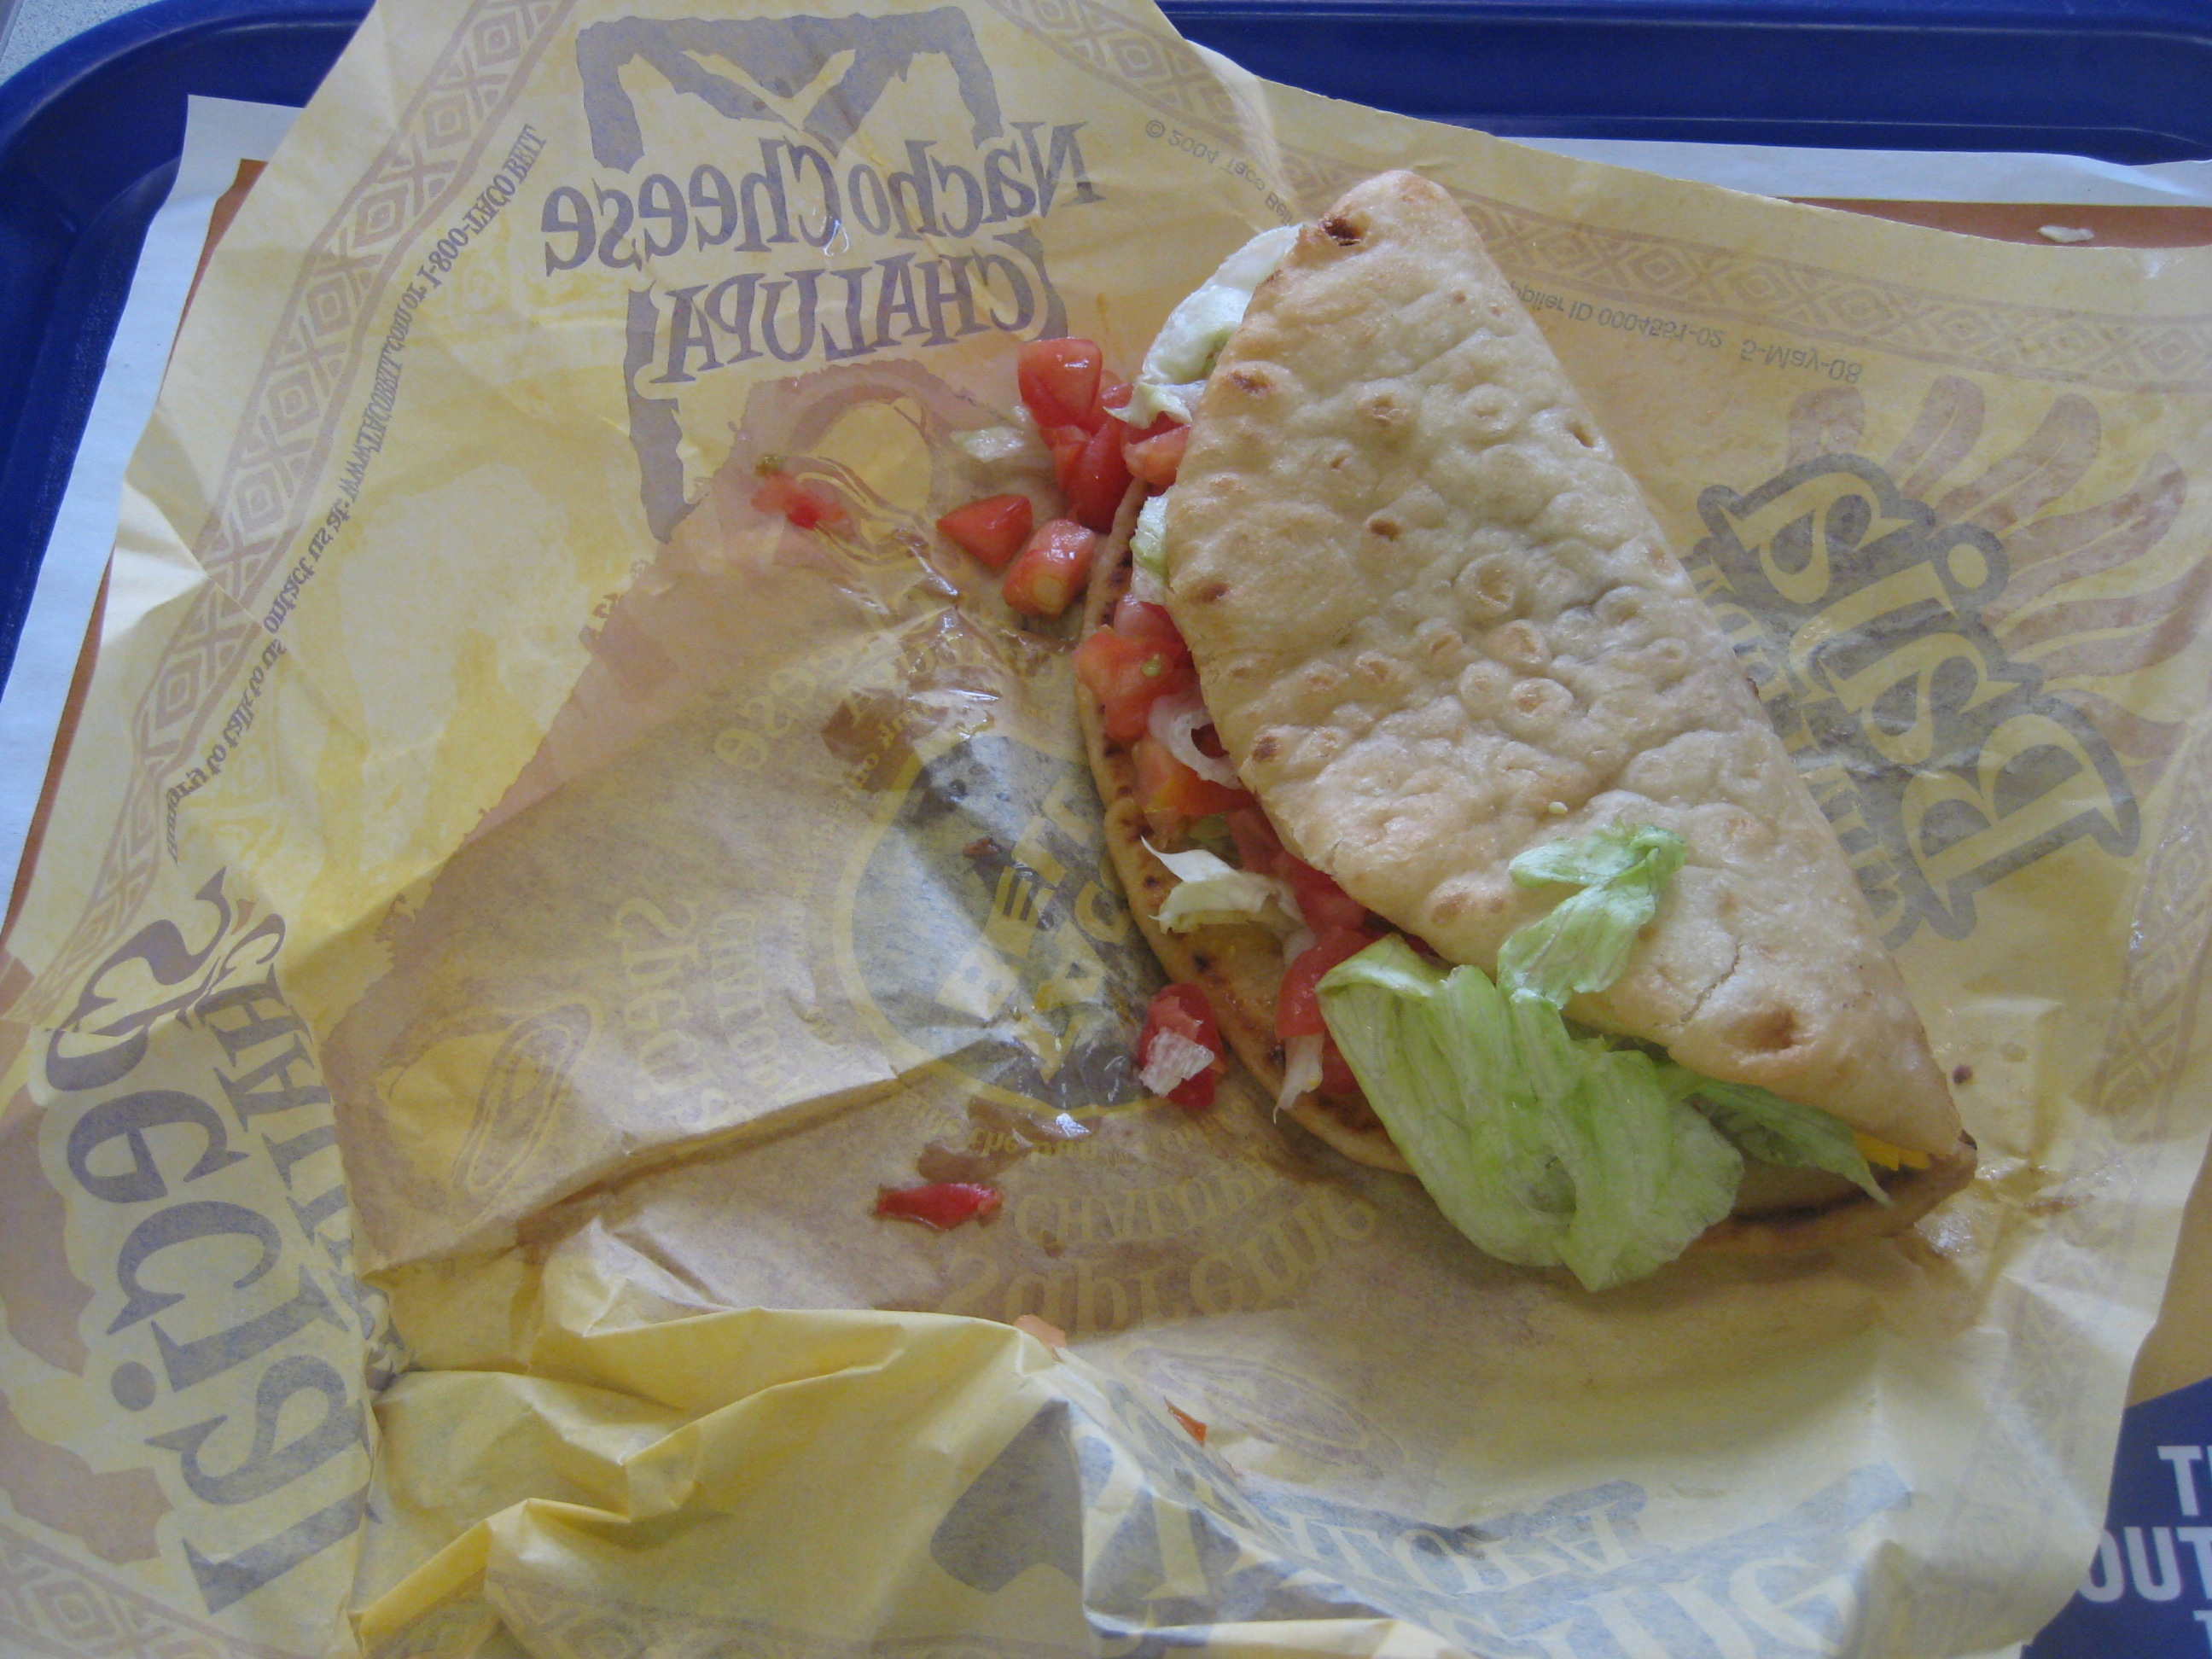taco: (1043, 108, 1990, 1335)
